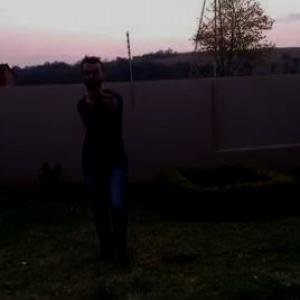takeoff-hand: (95, 79, 121, 112)
